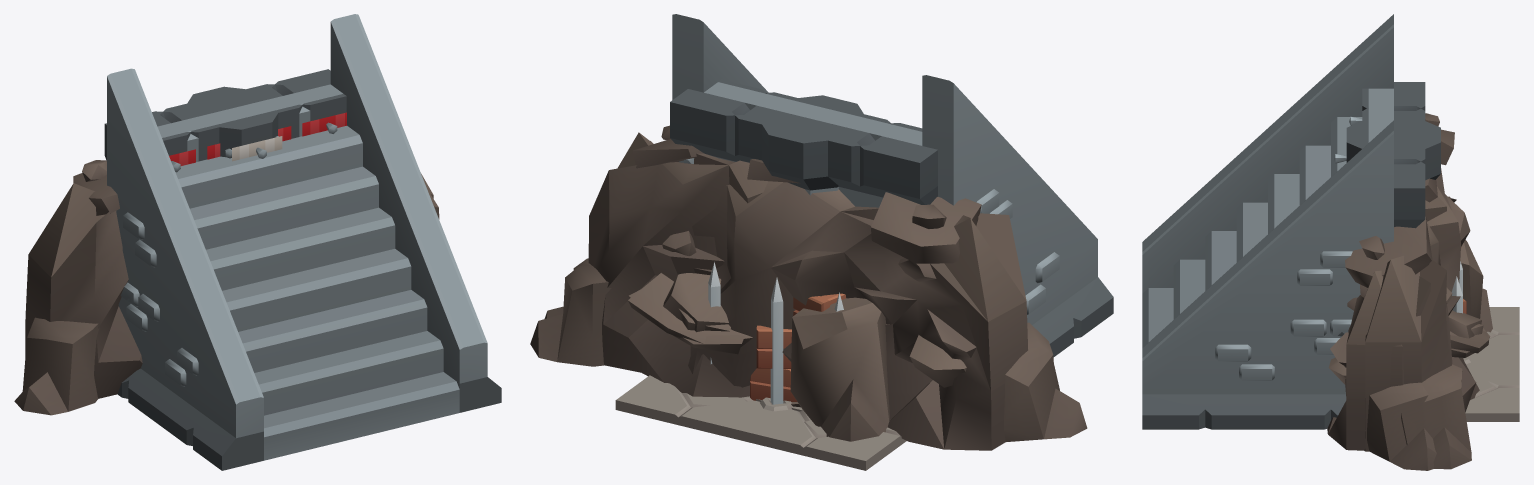
The model's file is dungeon.glb.
The picture shows the model from 3 angles, left to right: view 1: azimuth 30°, elevation 25°; view 2: azimuth 150°, elevation 25°; view 3: azimuth 270°, elevation 25°; orthographic projection. The views are drawn at different scales.
Parts seen in each view (by area): view 1: stairs, rubble_large, wall_arched, pillar, banner_triple_red, pillar_decorated; view 2: rubble_large, rubble_half, stairs, wall, floor_tile_large_rocks, wall_arched, pillar, Cube.14376, crates_stacked, spikes, floor_tile_large, pillar_decorated; view 3: stairs, rubble_half, rubble_large, floor_tile_large_rocks, wall_arched, wall, pillar, floor_tile_large, Cube.14376.
Boxes of the visible parts, x1,y1,x2,y2 form: stairs: [107, 14, 501, 470]; rubble_large: [14, 160, 439, 415]; wall_arched: [104, 69, 346, 161]; pillar: [187, 87, 278, 157]; banner_triple_red: [169, 112, 346, 172]; pillar_decorated: [189, 86, 282, 161]; rubble_large: [544, 141, 1087, 450]; rubble_half: [530, 125, 767, 397]; stairs: [672, 14, 1113, 357]; wall: [670, 93, 924, 207]; floor_tile_large_rocks: [615, 375, 906, 470]; wall_arched: [670, 79, 937, 204]; pillar: [762, 97, 863, 191]; Cube.14376: [615, 396, 904, 470]; crates_stacked: [750, 293, 845, 401]; spikes: [708, 262, 843, 404]; floor_tile_large: [621, 407, 904, 470]; pillar_decorated: [763, 95, 854, 195]; stairs: [1142, 14, 1393, 429]; rubble_half: [1345, 197, 1489, 469]; rubble_large: [1327, 113, 1492, 470]; floor_tile_large_rocks: [1465, 307, 1519, 421]; wall_arched: [1362, 82, 1425, 227]; wall: [1362, 83, 1425, 227]; pillar: [1346, 121, 1440, 180]; floor_tile_large: [1465, 413, 1519, 421]; Cube.14376: [1463, 335, 1519, 421].
Bounding box in the file's own units: 8.13 × 5.48 × 6.
1 material, 1 textured.
